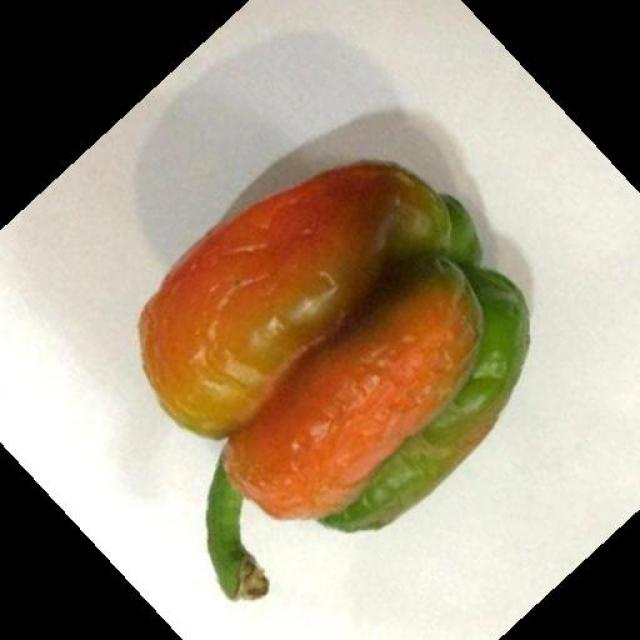Stale_Capsicum: (145, 138, 519, 552)
